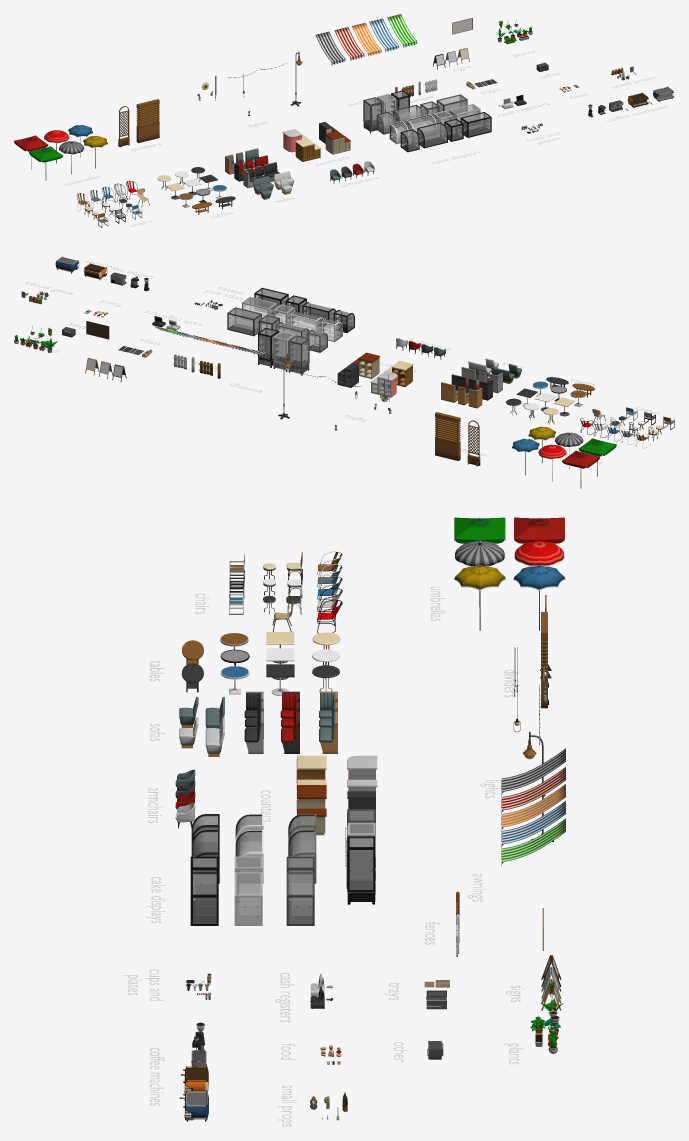
Rendered from Cafe asset pack 1.fbx.
3 views of the same model, one above another, from view 1: azimuth 30°, elevation 25°; view 2: azimuth 150°, elevation 25°; view 3: azimuth 270°, elevation 25° (orthographic). The views are drawn at different scales.
Visible parts, largest first — view 1: Divider square, Cake Display Square large countertop black, Cake display round large countertop black, Cake Display Square standing grey, Cake display round large countertop grey, Cake Display Square large countertop grey, Awning red, Awning yellow, Awning blue, Awning grey, Cake display round large countertop white, Awning green (+8 smaller); view 2: Divider square, Cake Display Square large countertop grey, Cake Display Square standing grey, Cake Display Square standing black, Cake Display Square standing white, Cake Display Square large countertop white, Cake display round large countertop white, Cake display round large countertop black, Cake Display Square large countertop black, Umbrella square red, Divider arched, Umbrella square green (+2 smaller); view 3: Cake Display Square standing black, Cake Display Square large countertop black, Cake Display Square large countertop white, Cake Display Square large countertop grey, Umbrella square green, Umbrella square red, Umbrella round black and white, Umbrella round red, Umbrella fancy yellow, Cake display round large countertop grey, Umbrella fancy blue, Cake display round large countertop white (+6 smaller).
Boxes of the visible parts, x1,y1,x2,y2 form: Divider square: (136,99,159,142); Cake Display Square large countertop black: (460,112,491,137); Cake display round large countertop black: (417,122,447,148); Cake Display Square standing grey: (363,97,382,133); Cake display round large countertop grey: (393,104,423,129); Cake Display Square large countertop grey: (436,94,467,119); Awning red: (334,27,364,60); Awning yellow: (352,22,381,56); Awning blue: (369,18,398,51); Awning grey: (315,31,345,65); Cake display round large countertop white: (406,114,436,137); Awning green: (387,14,417,47); Divider square: (435,412,460,460); Cake Display Square large countertop grey: (227,307,261,336); Cake Display Square standing grey: (288,335,309,375); Cake Display Square standing black: (258,327,278,367); Cake Display Square standing white: (273,331,294,371); Cake Display Square large countertop white: (242,296,276,324); Cake display round large countertop white: (290,311,323,336); Cake display round large countertop black: (302,302,336,327); Cake Display Square large countertop black: (254,287,288,315); Umbrella square red: (562,450,600,488); Divider arched: (467,420,480,466); Umbrella square green: (578,438,616,476); Cake Display Square standing black: (347,836,375,904); Cake Display Square large countertop black: (190,872,218,925); Cake Display Square large countertop white: (234,872,262,925); Cake Display Square large countertop grey: (286,872,314,925); Umbrella square green: (454,517,505,543); Umbrella square red: (514,517,564,543); Umbrella round black and white: (455,540,504,606); Umbrella round red: (514,540,564,566); Umbrella fancy yellow: (454,565,505,630); Cake display round large countertop grey: (288,830,316,883); Umbrella fancy blue: (513,565,565,630); Cake display round large countertop white: (235,830,263,883).
Bounding box in the file's own units: 37.61 × 12.6 × 3.71.
